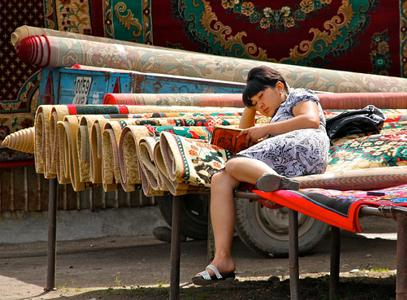person: (190, 67, 333, 285)
